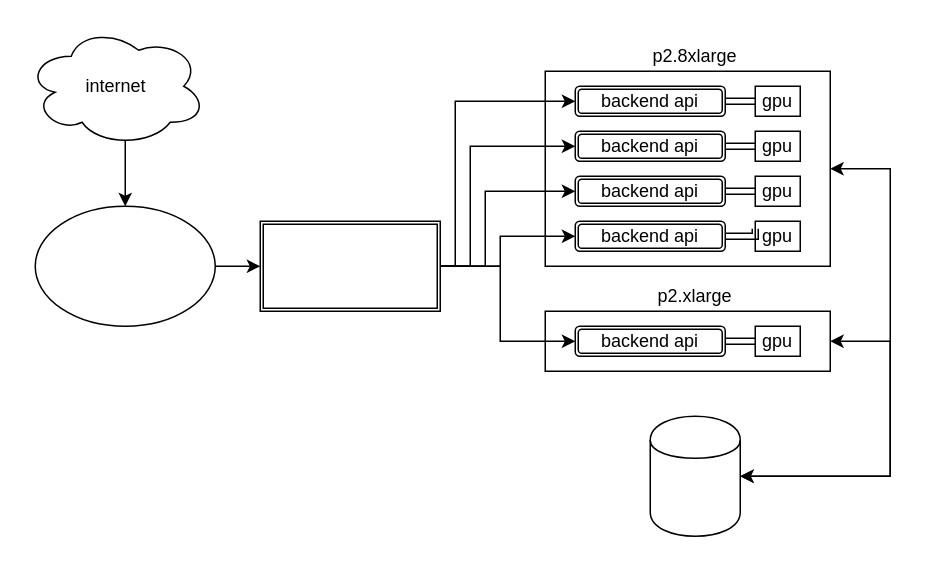
Image size: 944x563. Some labels were removed from this diagram. The centre of each missing label's shape, as x and y in pixels:
"front-end api" belongs at [124,265].
"load balancer" belongs at [349,265].
"model store" belongs at [694,475].
